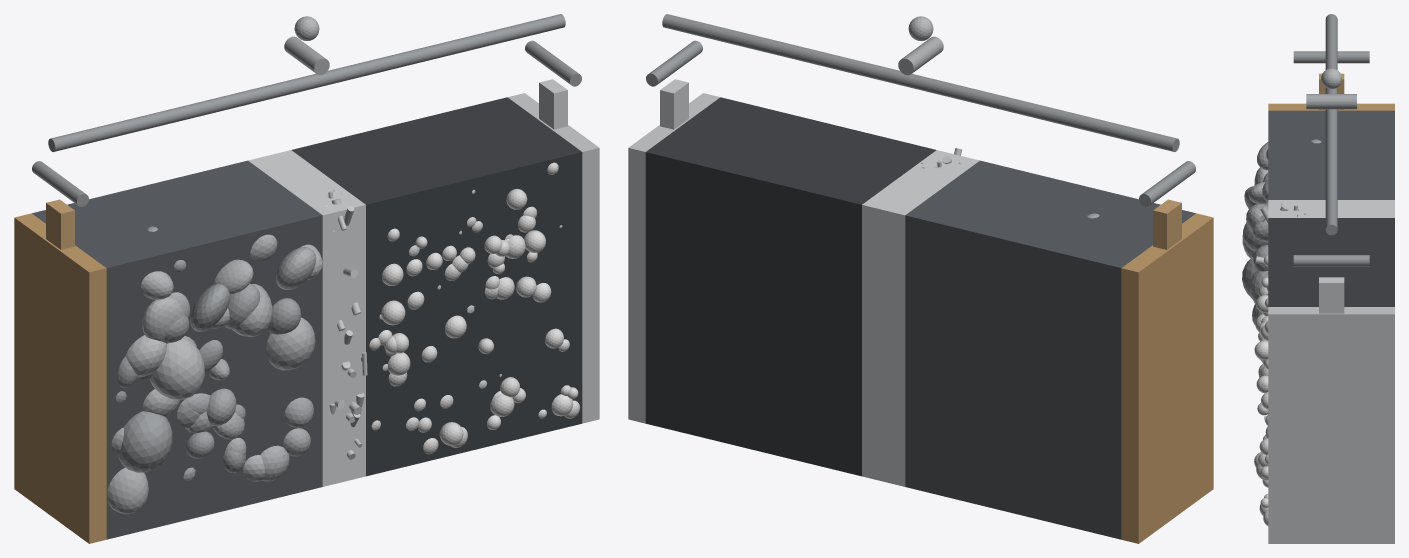
The model's file is detailed_battery.glb.
3 renders of one model, left to right at view 1: azimuth 30°, elevation 25°; view 2: azimuth 150°, elevation 25°; view 3: azimuth 270°, elevation 25°, orthographic. The views are drawn at different scales.
Visible parts, largest first — view 1: geometry_404, geometry_2, geometry_0, geometry_223, geometry_959, geometry_955, geometry_159, geometry_64, geometry_94, geometry_170, geometry_124, geometry_218 (+15 smaller); view 2: geometry_404, geometry_2, geometry_0, geometry_223, geometry_959, geometry_955, geometry_1, geometry_956, geometry_958, geometry_957, geometry_960; view 3: geometry_955, geometry_2, geometry_404, geometry_959, geometry_223, geometry_956, geometry_958, geometry_957, geometry_960, geometry_0, geometry_961, geometry_94 (+9 smaller).
Boxes of the visible parts, x1=… form: geometry_404: x1=291, y1=97, x2=582, y2=476; geometry_2: x1=32, y1=160, x2=322, y2=539; geometry_0: x1=14, y1=213, x2=106, y2=543; geometry_223: x1=248, y1=150, x2=365, y2=486; geometry_959: x1=48, y1=14, x2=565, y2=151; geometry_955: x1=507, y1=93, x2=599, y2=423; geometry_159: x1=118, y1=411, x2=172, y2=472; geometry_64: x1=150, y1=338, x2=204, y2=399; geometry_94: x1=266, y1=317, x2=315, y2=370; geometry_170: x1=107, y1=467, x2=148, y2=514; geometry_124: x1=190, y1=283, x2=230, y2=331; geometry_218: x1=142, y1=296, x2=184, y2=343; geometry_404: x1=645, y1=97, x2=936, y2=476; geometry_2: x1=905, y1=160, x2=1195, y2=539; geometry_0: x1=1121, y1=213, x2=1213, y2=543; geometry_223: x1=862, y1=150, x2=979, y2=486; geometry_959: x1=662, y1=14, x2=1179, y2=151; geometry_955: x1=628, y1=93, x2=720, y2=423; geometry_1: x1=1153, y1=199, x2=1181, y2=249; geometry_956: x1=660, y1=79, x2=688, y2=129; geometry_958: x1=646, y1=40, x2=702, y2=86; geometry_957: x1=1139, y1=161, x2=1195, y2=206; geometry_960: x1=898, y1=36, x2=943, y2=75; geometry_955: x1=1268, y1=307, x2=1394, y2=543; geometry_2: x1=1268, y1=110, x2=1394, y2=199; geometry_404: x1=1268, y1=218, x2=1394, y2=306; geometry_959: x1=1325, y1=14, x2=1337, y2=235; geometry_223: x1=1268, y1=200, x2=1394, y2=217; geometry_956: x1=1319, y1=277, x2=1344, y2=313; geometry_958: x1=1293, y1=255, x2=1369, y2=266; geometry_957: x1=1293, y1=51, x2=1369, y2=63; geometry_960: x1=1306, y1=94, x2=1356, y2=109; geometry_0: x1=1268, y1=103, x2=1394, y2=110; geometry_961: x1=1321, y1=68, x2=1341, y2=89; geometry_94: x1=1250, y1=271, x2=1268, y2=303.
Size of the model in its own units: 118 by 97.3 by 36.21.
